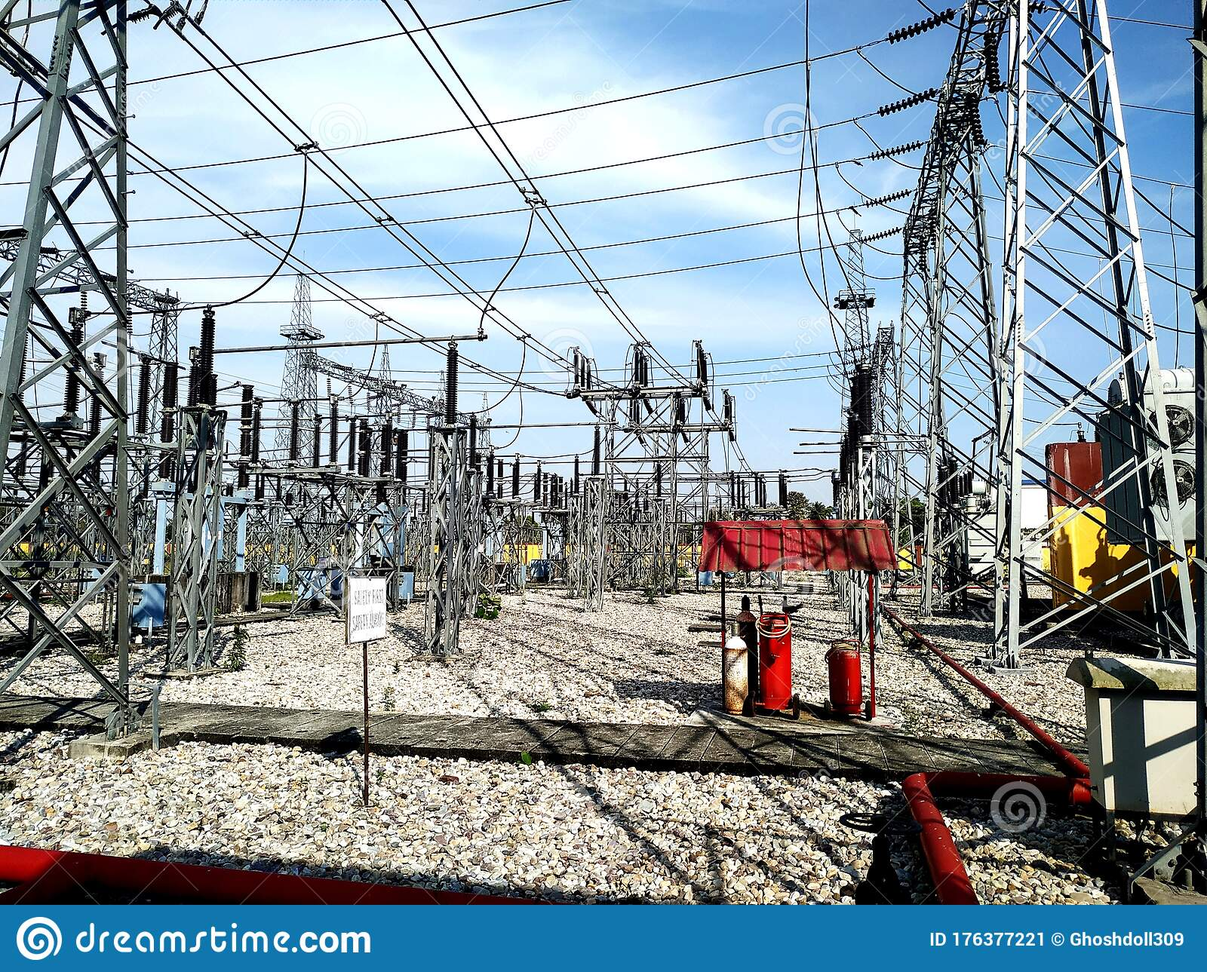fire_extinguisher: (756, 611, 792, 711), (825, 637, 862, 714), (721, 625, 749, 715)
